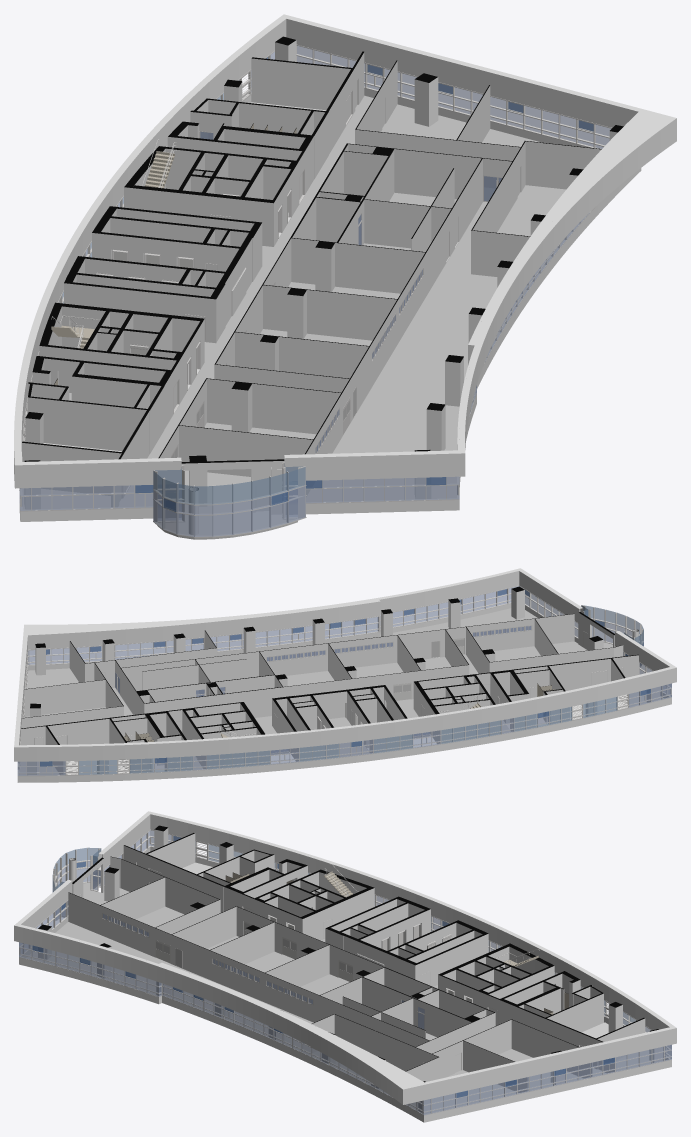
3 renders of one model, top to bottom at view 1: azimuth 30°, elevation 25°; view 2: azimuth 150°, elevation 25°; view 3: azimuth 270°, elevation 25°, orthographic. The views are drawn at different scales.
Parts seen in each view (by area): view 1: A1-23F-Wall1, A1-23F-Floor, A1-23F-Dry Wall, A1-23F-In Dry Wall, A1-23F-Glass1, A1-23F-Column, A1-23F-Frame, A1-23F-Glass2, A1-23F-Door, A1-23F-Wall2, A1-23F-Elevator, A1-23F-Glass3 (+1 smaller); view 2: A1-23F-Wall1, A1-23F-In Dry Wall, A1-23F-Dry Wall, A1-23F-Glass1, A1-23F-Frame, A1-23F-Floor, A1-23F-Glass2, A1-23F-Column, A1-23F-Door, A1-23F-Windows, A1-23F-Glass3, A1-23F-Vent (+1 smaller); view 3: A1-23F-Wall1, A1-23F-Dry Wall, A1-23F-In Dry Wall, A1-23F-Glass1, A1-23F-Floor, A1-23F-Frame, A1-23F-Column, A1-23F-Door, A1-23F-Glass2, A1-23F-Windows, A1-23F-Glass3, A1-23F-Elevator (+1 smaller).
Part boxes in pixels (x1=…): A1-23F-Wall1: x1=21, y1=51, x2=601, y2=506; A1-23F-Floor: x1=22, y1=95, x2=568, y2=539; A1-23F-Dry Wall: x1=14, y1=14, x2=676, y2=488; A1-23F-In Dry Wall: x1=19, y1=17, x2=641, y2=521; A1-23F-Glass1: x1=19, y1=46, x2=610, y2=536; A1-23F-Column: x1=24, y1=36, x2=623, y2=534; A1-23F-Frame: x1=19, y1=44, x2=611, y2=537; A1-23F-Glass2: x1=62, y1=80, x2=305, y2=504; A1-23F-Door: x1=119, y1=79, x2=520, y2=511; A1-23F-Wall2: x1=181, y1=459, x2=284, y2=514; A1-23F-Elevator: x1=96, y1=190, x2=291, y2=390; A1-23F-Glass3: x1=83, y1=56, x2=593, y2=511; A1-23F-Wall1: x1=21, y1=614, x2=638, y2=774; A1-23F-In Dry Wall: x1=17, y1=570, x2=671, y2=782; A1-23F-Dry Wall: x1=14, y1=568, x2=676, y2=761; A1-23F-Glass1: x1=17, y1=586, x2=671, y2=775; A1-23F-Frame: x1=17, y1=585, x2=671, y2=776; A1-23F-Floor: x1=20, y1=608, x2=663, y2=774; A1-23F-Glass2: x1=79, y1=605, x2=643, y2=774; A1-23F-Column: x1=27, y1=586, x2=659, y2=774; A1-23F-Door: x1=34, y1=631, x2=623, y2=758; A1-23F-Windows: x1=266, y1=625, x2=532, y2=662; A1-23F-Glass3: x1=40, y1=589, x2=650, y2=766; A1-23F-Vent: x1=66, y1=694, x2=628, y2=775; A1-23F-Wall1: x1=68, y1=833, x2=645, y2=1092; A1-23F-Dry Wall: x1=14, y1=811, x2=676, y2=1104; A1-23F-In Dry Wall: x1=19, y1=813, x2=671, y2=1122; A1-23F-Glass1: x1=19, y1=830, x2=671, y2=1114; A1-23F-Floor: x1=26, y1=862, x2=650, y2=1112; A1-23F-Frame: x1=19, y1=829, x2=671, y2=1115; A1-23F-Column: x1=38, y1=825, x2=662, y2=1113; A1-23F-Door: x1=78, y1=862, x2=604, y2=1072; A1-23F-Glass2: x1=52, y1=844, x2=635, y2=1026; A1-23F-Windows: x1=102, y1=913, x2=313, y2=1005; A1-23F-Glass3: x1=32, y1=835, x2=614, y2=1097; A1-23F-Elevator: x1=268, y1=908, x2=491, y2=1002.
Size of the model in its own units: 71.25 by 5.2 by 71.71.
